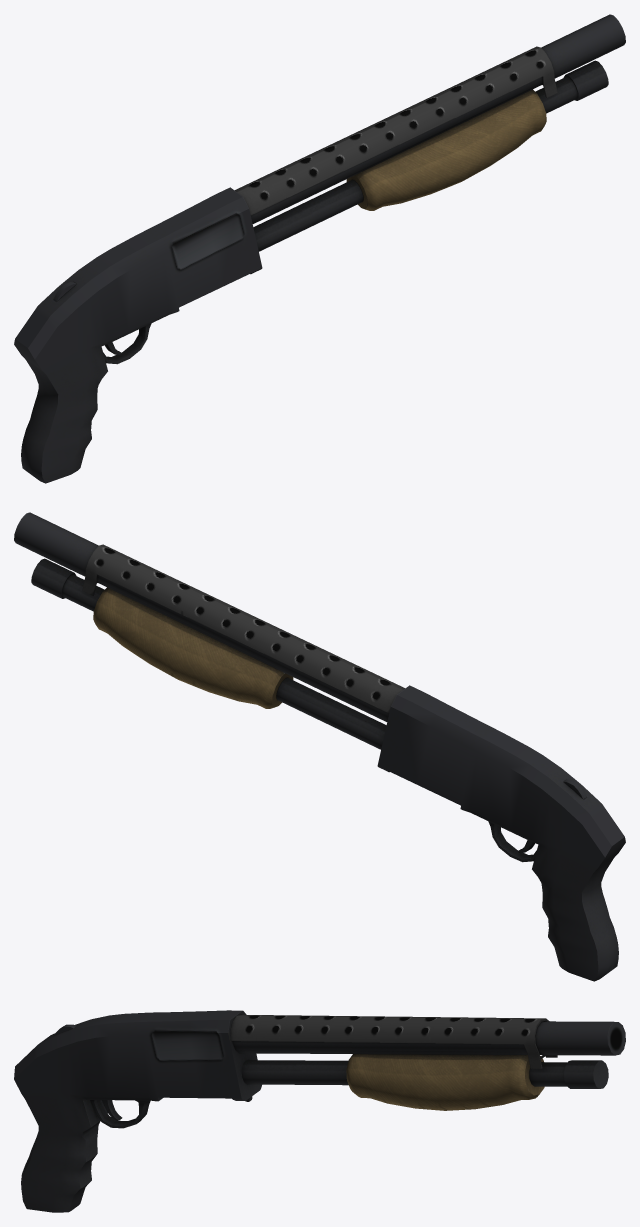
The model's file is shotgun_000005.obj.
3 renders of one model, top to bottom at view 1: azimuth 30°, elevation 25°; view 2: azimuth 150°, elevation 25°; view 3: azimuth 330°, elevation 25°, orthographic.
Visible parts, largest first — view 1: mesh_Cube.001; view 2: mesh_Cube.001; view 3: mesh_Cube.001.
Part boxes in pixels (x1=…): mesh_Cube.001: x1=14, y1=14, x2=625, y2=483; mesh_Cube.001: x1=14, y1=512, x2=625, y2=981; mesh_Cube.001: x1=14, y1=1010, x2=625, y2=1212.
Size of the model in its own units: 1.77 by 0.9078 by 0.1708.
Materials: 1 (1 with a texture image).
